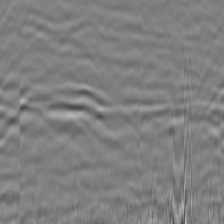cavities: (44, 113, 222, 218)
